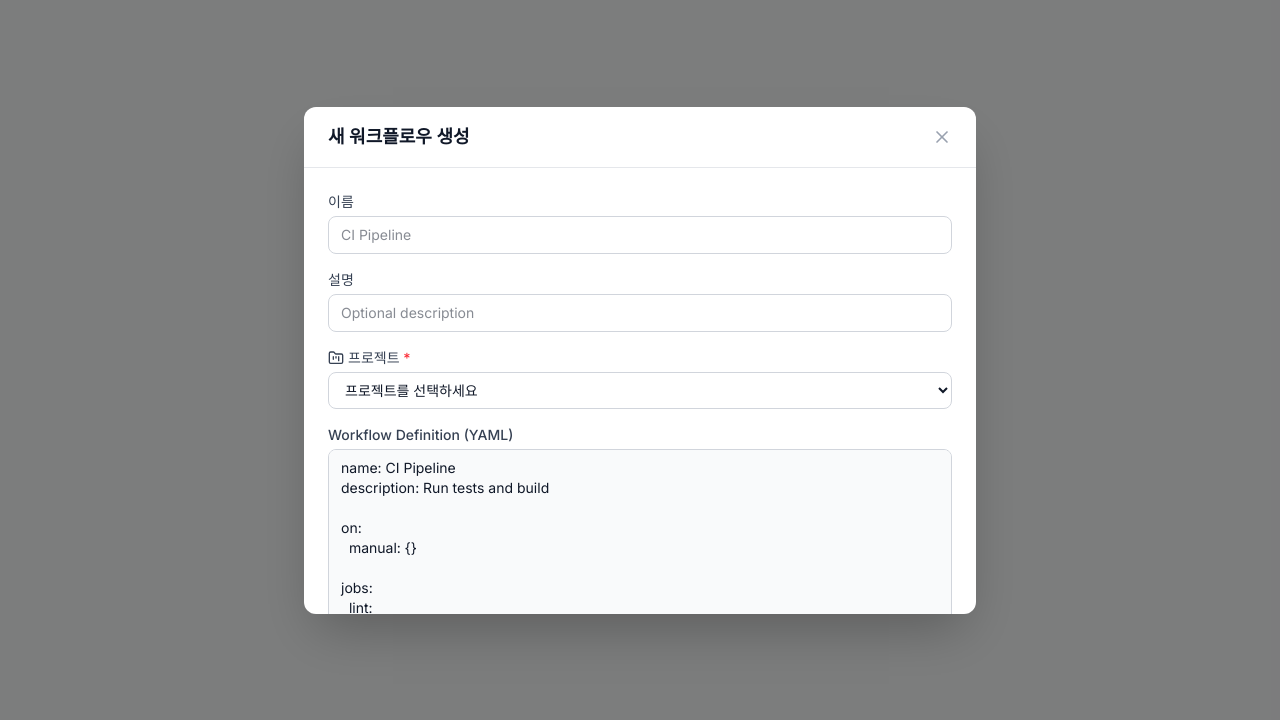
Test: WorkflowCreateModal › shows duplicate warning when same name exists in project
Note: Select project p1 - default name is 'New Workflow' when name input is empty
Select "Project Alpha" in the dropdown at x=640, y=390, box [328,372,952,408]
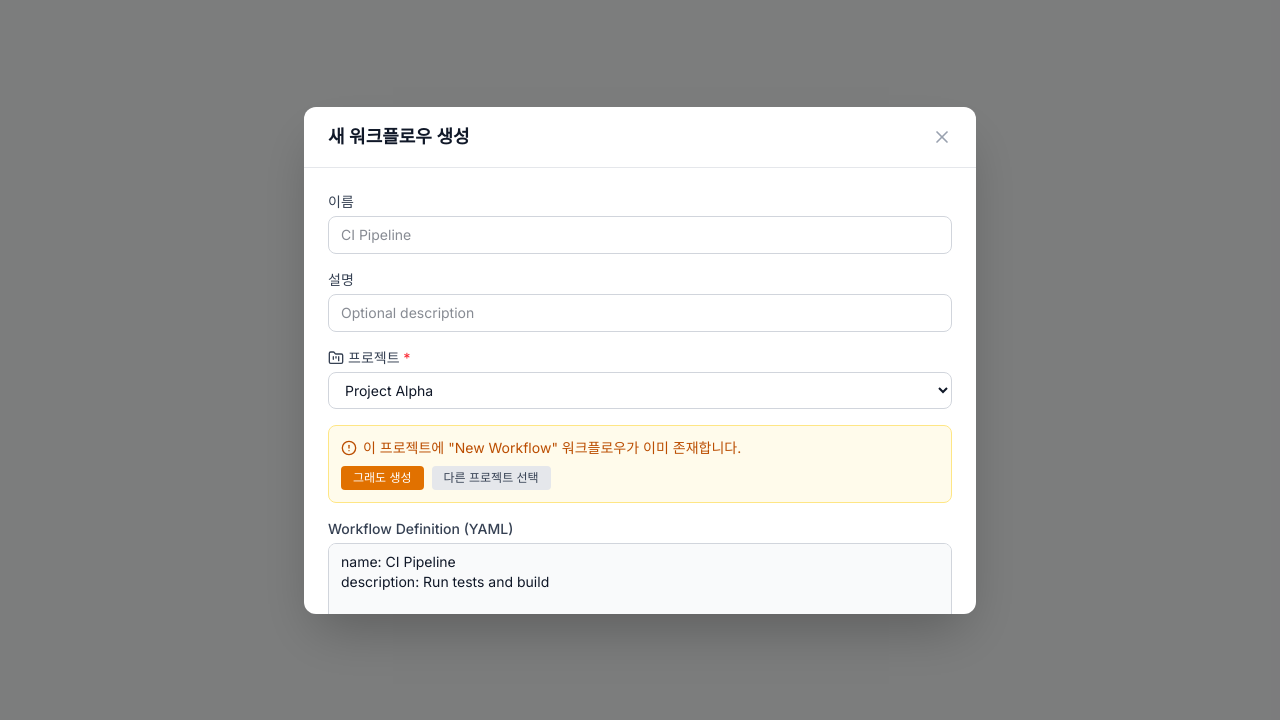
Expected: the text "이 프로젝트에 \"New Workflow\" 워크플로우가 이미 존재합니다." is shown, [341,438,741,456]
Expected: the button "그래도 생성" is shown, [341,466,424,490]
